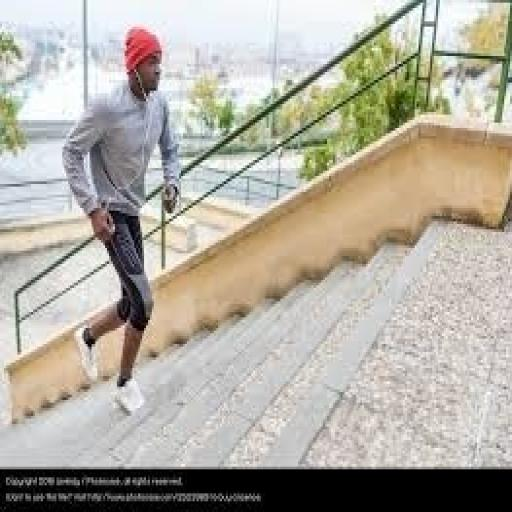running: (58, 21, 185, 419)
